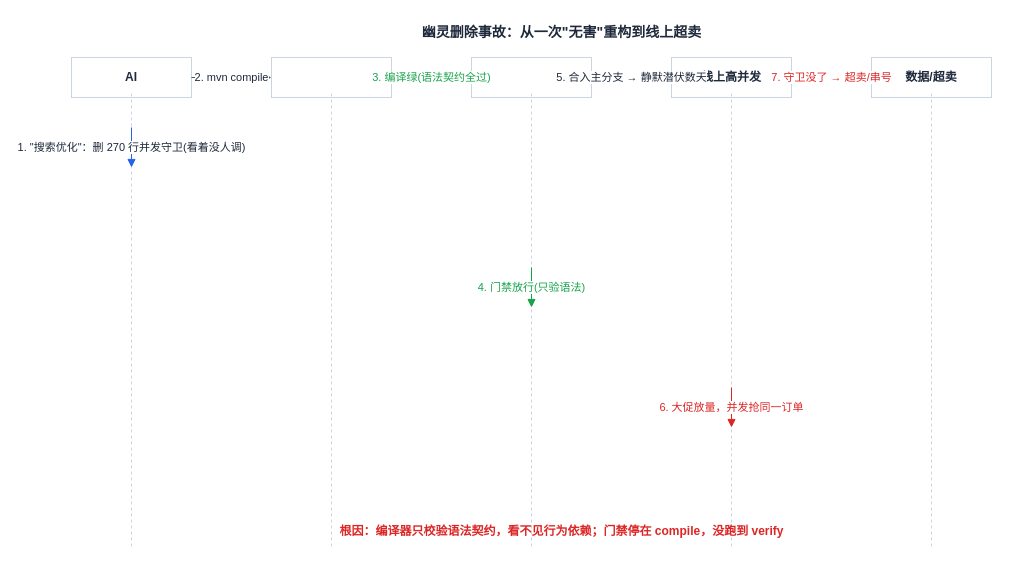
The diagram is 1009 pixels wide and 574 high, and some of its shapes have lost their labels. The box of each missing label's shape, as (x1, y1, x2, y2) in pixels:
编译器: (270, 56, 392, 98)
门禁(旧): (470, 56, 592, 98)
